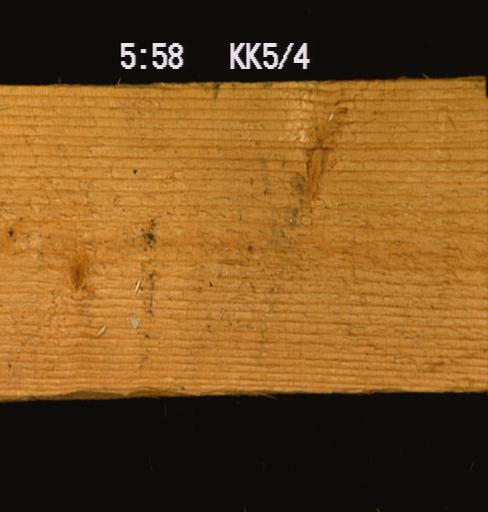small_knot: (60, 238, 99, 299), (0, 221, 18, 240), (240, 236, 257, 256)
